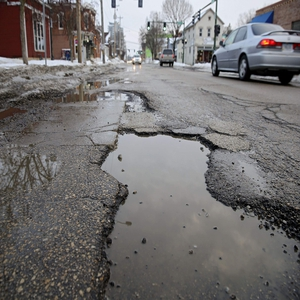pothole: (100, 126, 300, 299)
